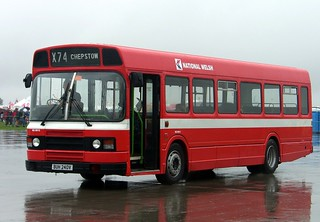bus: (25, 43, 312, 185)
